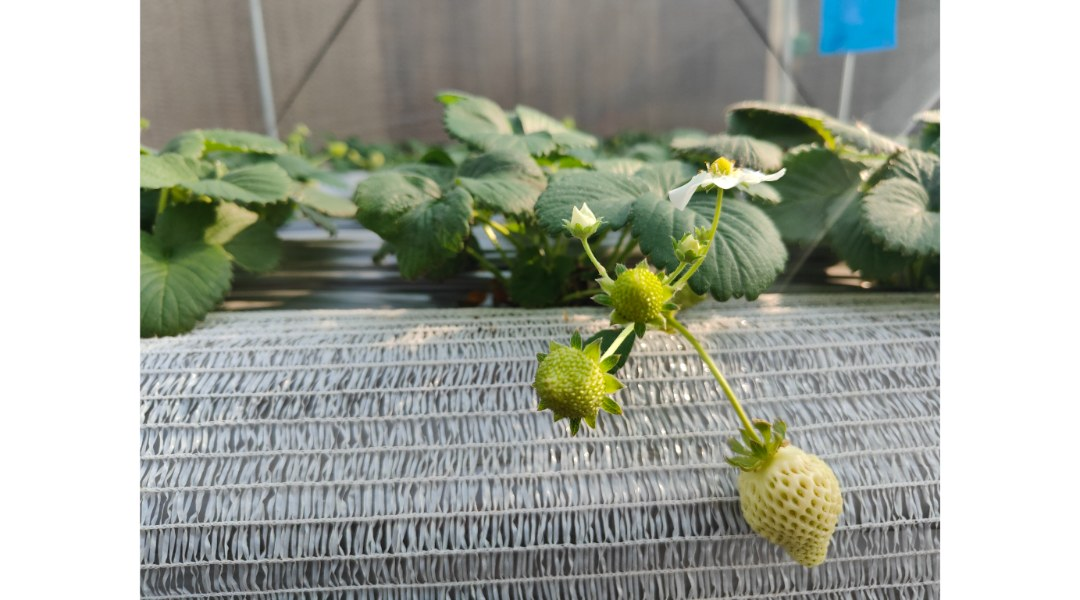berry: (713, 407, 856, 582), (525, 321, 622, 452), (595, 244, 678, 342), (677, 230, 708, 262)
flower: (660, 149, 801, 218), (561, 198, 613, 244)
strain: (670, 317, 761, 444), (666, 189, 726, 298), (600, 320, 638, 366)
